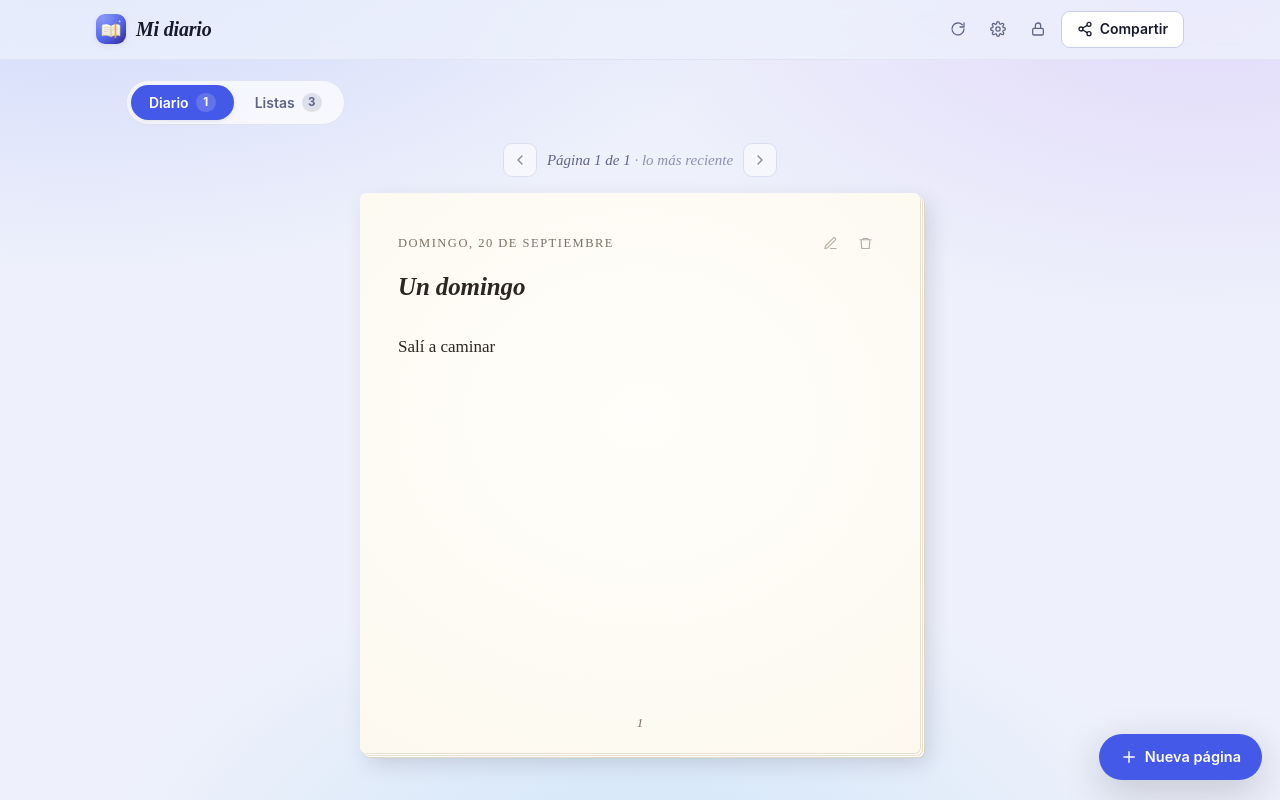
acceso › bloquear desde Ajustes olvida la clave de este dispositivo
This screenshot has width=1280, height=800.
Click the button named "Ajustes" at (998, 29), box [981,12,1015,46]
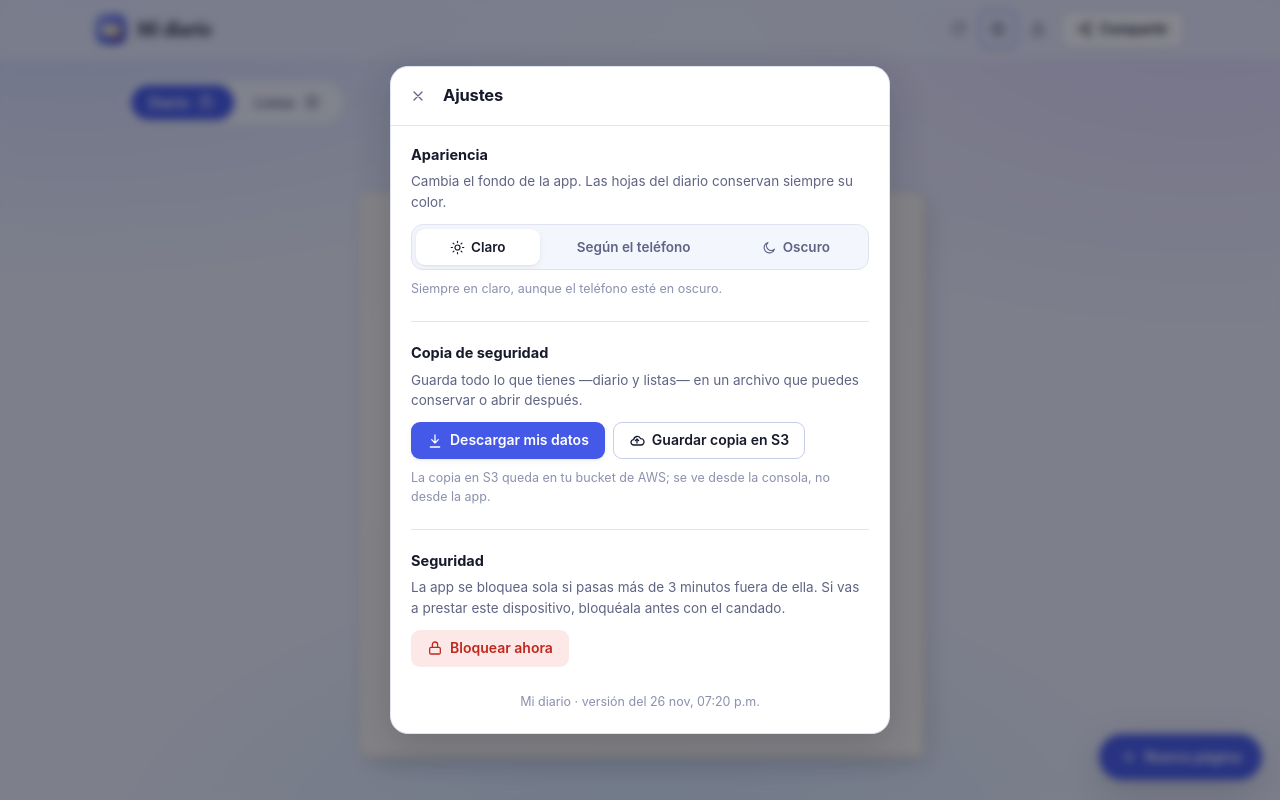
Click the button "Bloquear ahora" at (490, 648), box [411,630,569,667]
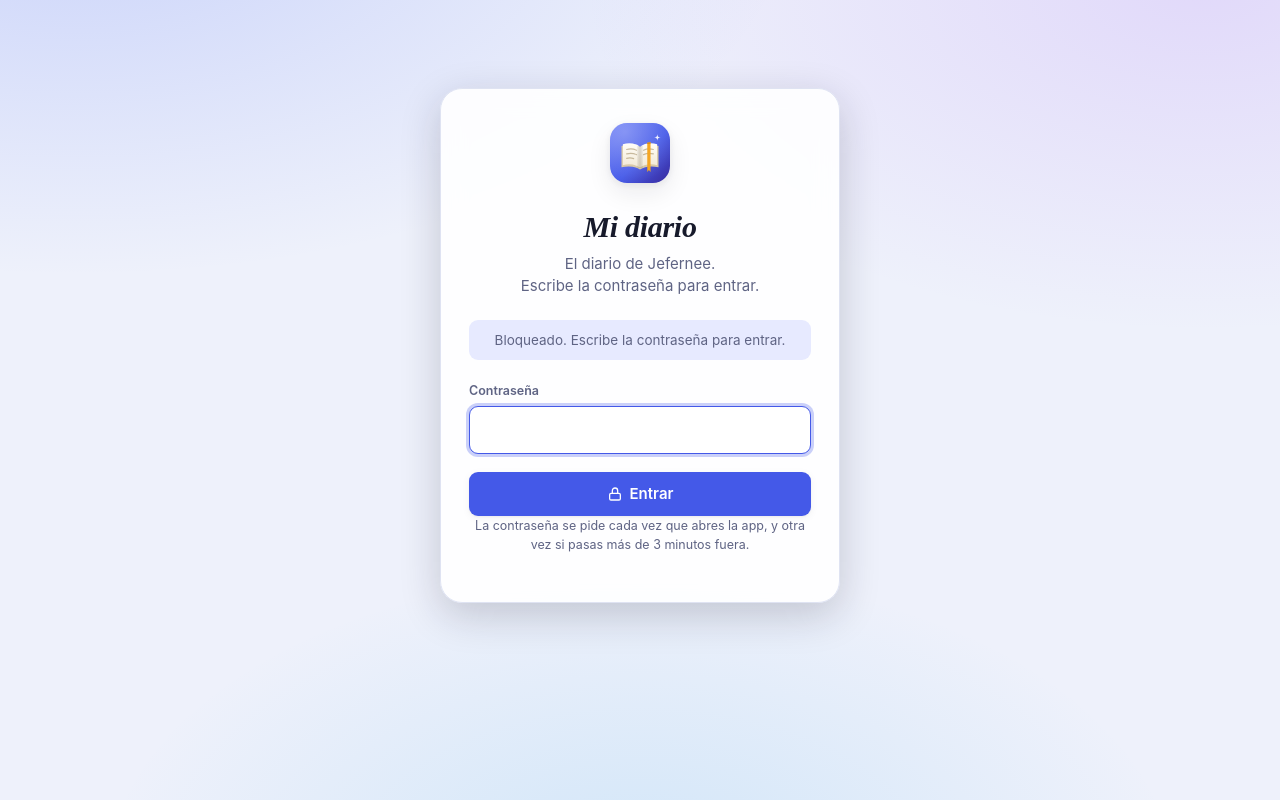
Now the password field labelled "Contraseña" is shown, box [469,406,811,454]
